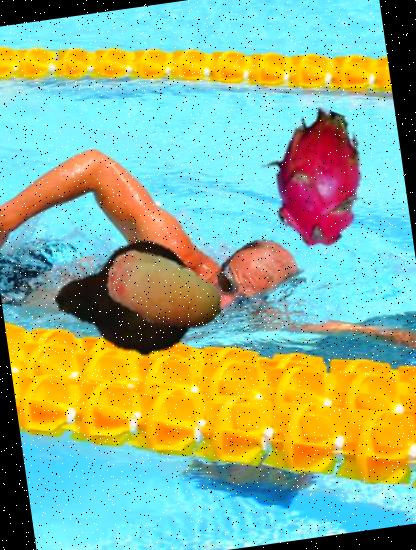Peach: (97, 226, 232, 360)
Pear: (46, 216, 209, 379)
Pitahaya: (236, 100, 392, 255)
